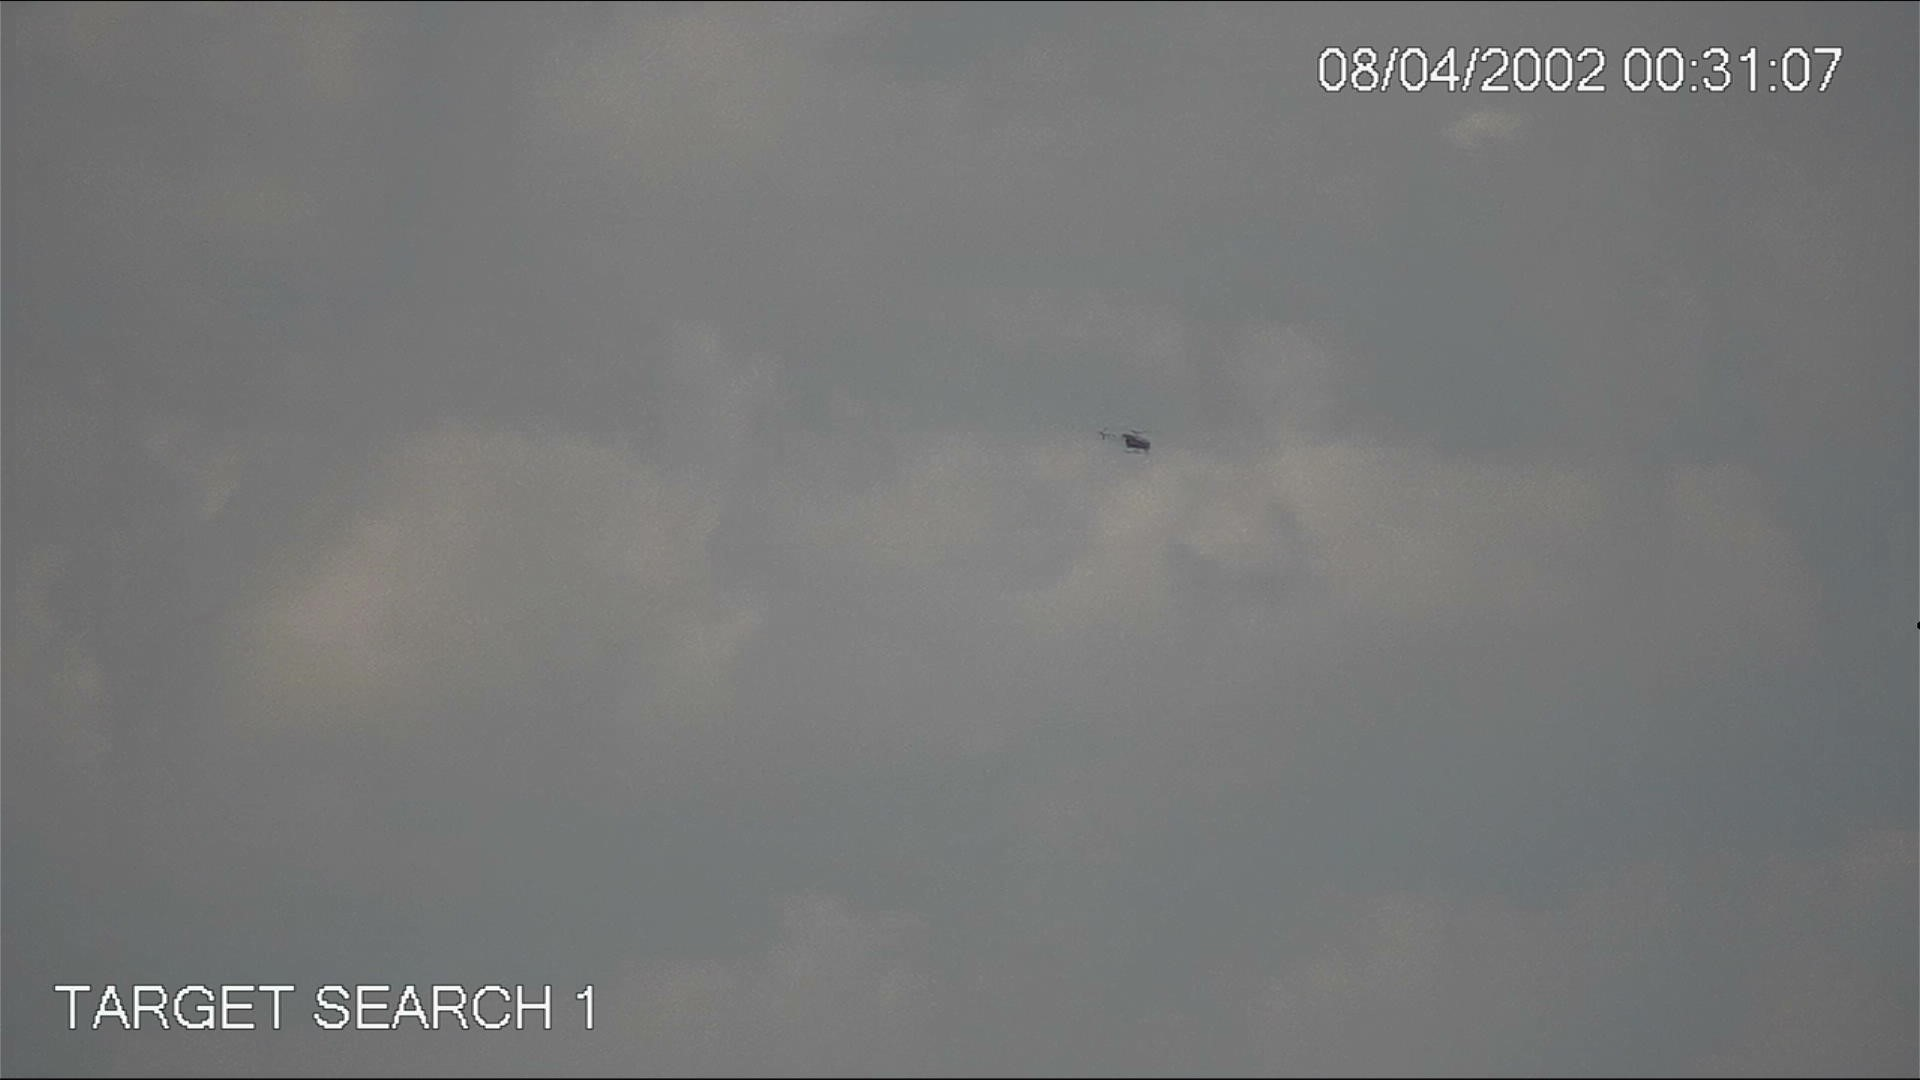SU_30: (1091, 425, 1160, 459)
